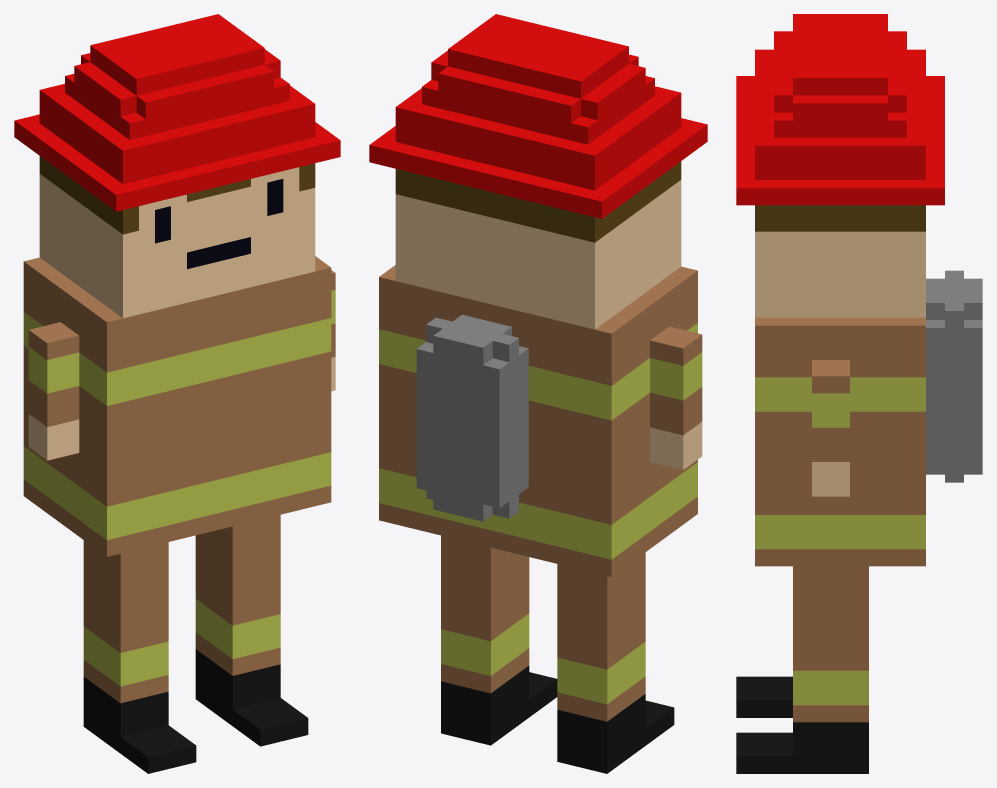
Rendered from Player24.obj.
The picture shows the model from 3 angles, left to right: view 1: azimuth 30°, elevation 25°; view 2: azimuth 150°, elevation 25°; view 3: azimuth 270°, elevation 25°; orthographic projection. The views are drawn at different scales.
Visible parts, largest first — view 1: Player24; view 2: Player24; view 3: Player24.
Part boxes in pixels (x1,y1,x2,y2): Player24: [14, 14, 340, 773]; Player24: [369, 14, 707, 773]; Player24: [736, 14, 982, 773].
Bounding box in the file's own units: 18 × 40 × 13.
